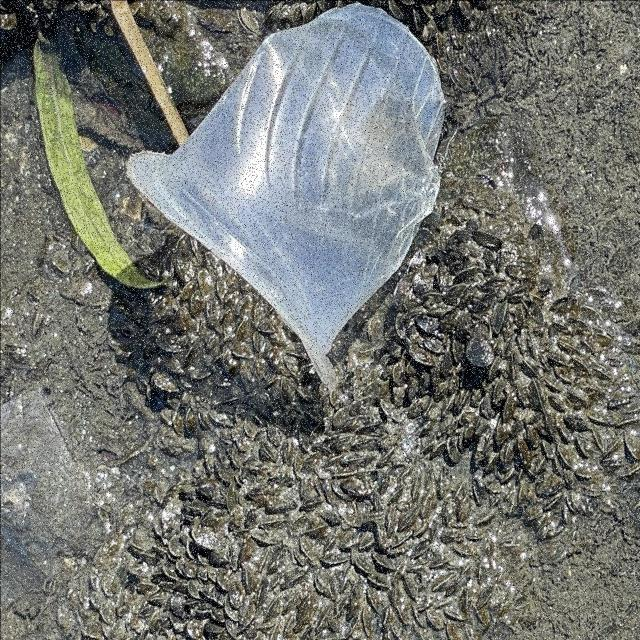plastic_waste: (125, 3, 449, 389)
